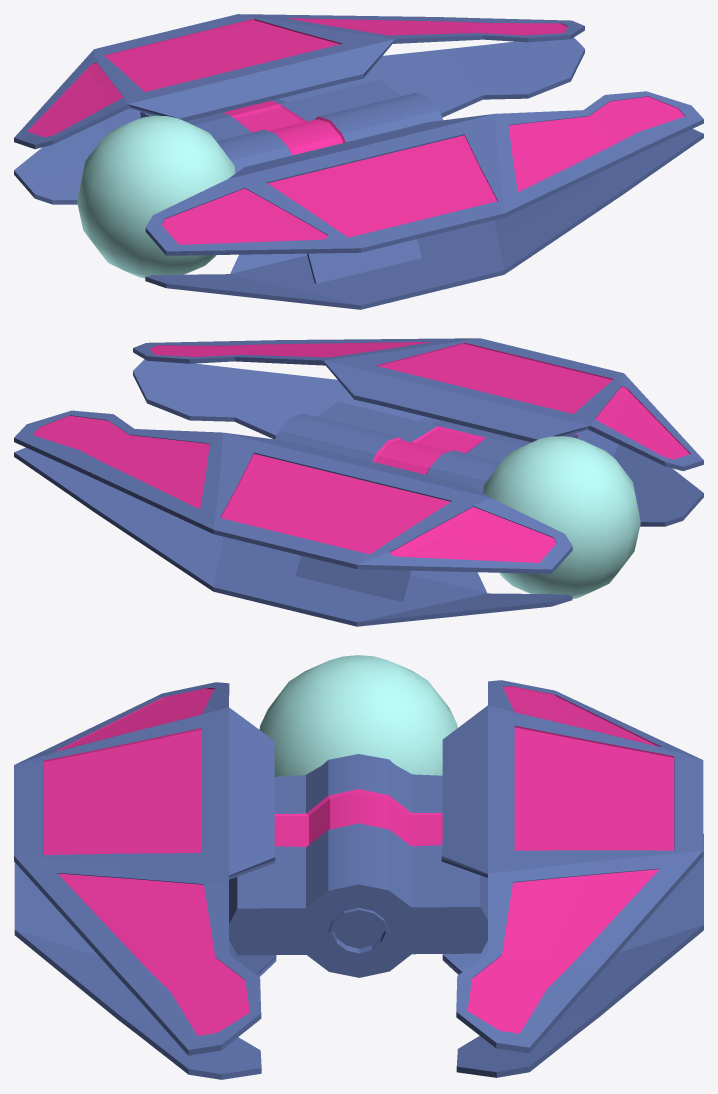
File: vaisseau.glb
3 views of the same model, one above another, from view 1: azimuth 30°, elevation 25°; view 2: azimuth 150°, elevation 25°; view 3: azimuth 270°, elevation 25° (orthographic). The views are drawn at different scales.
Parts seen in each view (by area): view 1: polySurface7, polySurface8, Sphere, polySurface6, pCylinder1_2, pCylinder1; view 2: polySurface7, polySurface6, Sphere, polySurface8, pCylinder1_2, pCylinder1; view 3: polySurface7, pCylinder1_2, Sphere, polySurface6, polySurface8, pCylinder1.
Boxes of the visible parts, x1,y1,x2,y2 form: polySurface7: [14, 14, 703, 255]; polySurface8: [145, 129, 703, 309]; Sphere: [77, 115, 235, 278]; polySurface6: [14, 37, 584, 204]; pCylinder1_2: [140, 80, 442, 283]; pCylinder1: [223, 100, 345, 155]; polySurface7: [14, 338, 703, 573]; polySurface6: [14, 447, 572, 626]; Sphere: [483, 436, 640, 599]; polySurface8: [133, 359, 703, 526]; pCylinder1_2: [275, 401, 577, 601]; pCylinder1: [372, 426, 577, 474]; polySurface7: [14, 680, 703, 1055]; pCylinder1_2: [229, 754, 487, 977]; Sphere: [259, 655, 457, 776]; polySurface6: [442, 834, 703, 1077]; polySurface8: [14, 862, 276, 1079]; pCylinder1: [274, 789, 442, 846].
Size of the model in its own units: 13.5 by 3.5 by 11.34.
